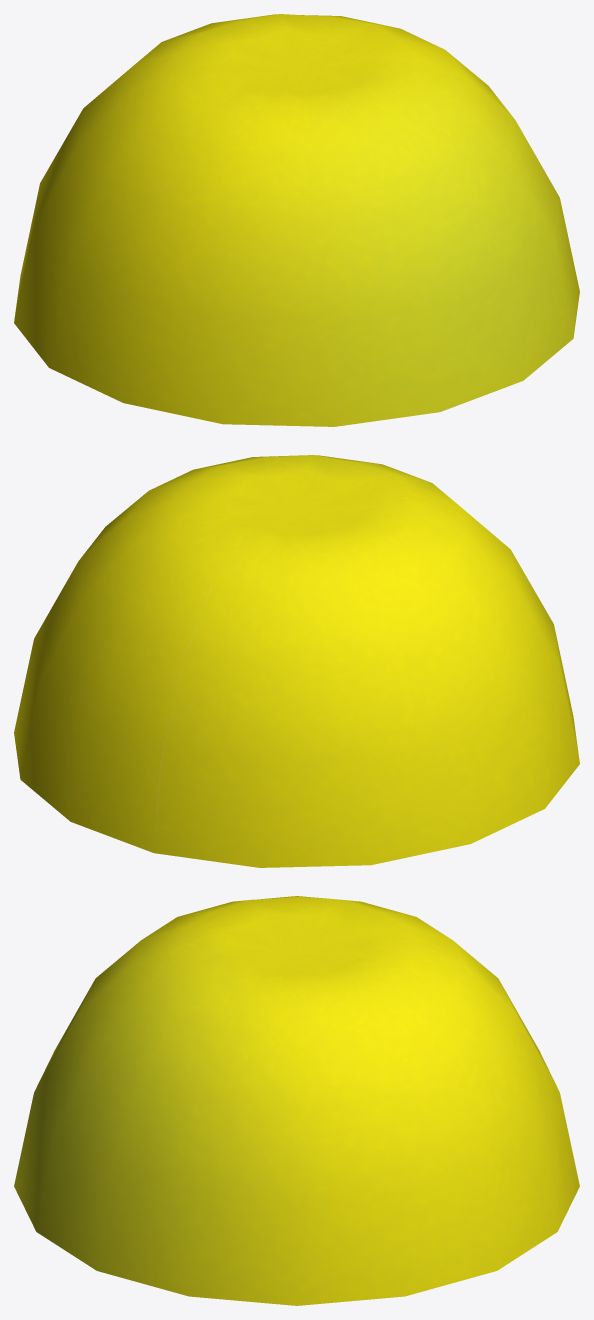
File: lemonS.FBX
3 views of the same model, one above another, from view 1: azimuth 30°, elevation 25°; view 2: azimuth 150°, elevation 25°; view 3: azimuth 270°, elevation 25° (orthographic).
Parts seen in each view (by area): view 1: Lemon001; view 2: Lemon001; view 3: Lemon001.
Boxes of the visible parts, box(x1,y1,x2,y2) form: Lemon001: box(14, 14, 579, 426); Lemon001: box(14, 455, 579, 867); Lemon001: box(14, 896, 579, 1305).
Size of the model in its own units: 3.98 by 1.88 by 3.98.
